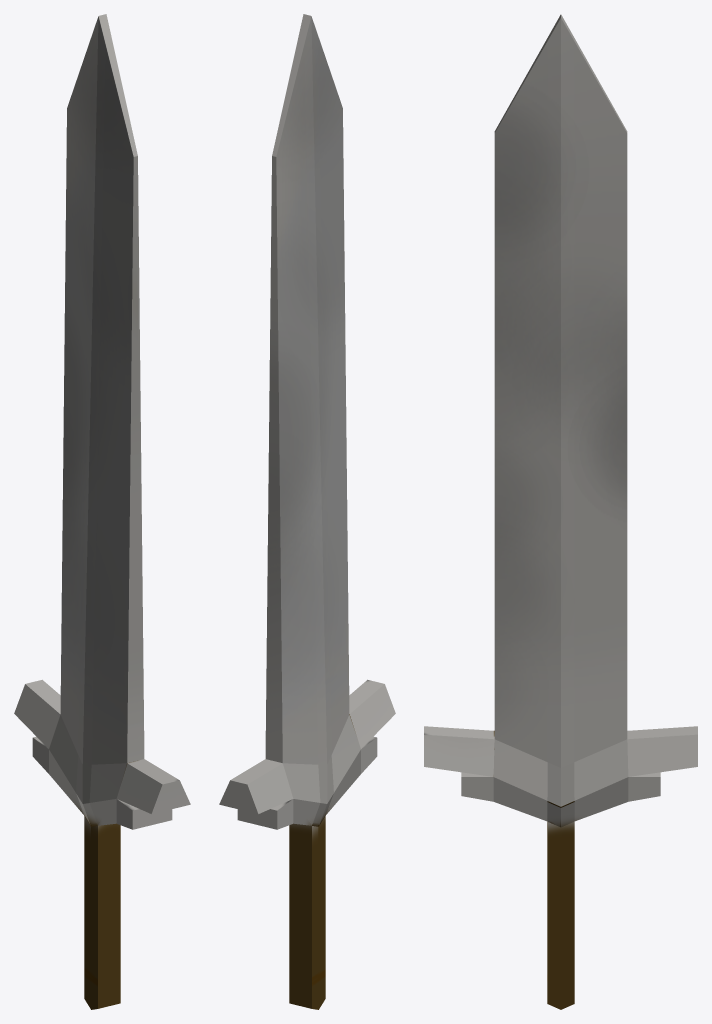
File: sword.fbx
3 views of the same model, side by side, from view 1: azimuth 30°, elevation 25°; view 2: azimuth 150°, elevation 25°; view 3: azimuth 270°, elevation 25° (orthographic).
Parts seen in each view (by area): view 1: Cube; view 2: Cube; view 3: Cube.
Part boxes in pixels (bbox=[...]): Cube: bbox=[14, 14, 190, 1009]; Cube: bbox=[219, 14, 395, 1009]; Cube: bbox=[424, 14, 697, 1009].
Bounding box in the file's own units: 9.57 × 230 × 57.8.
